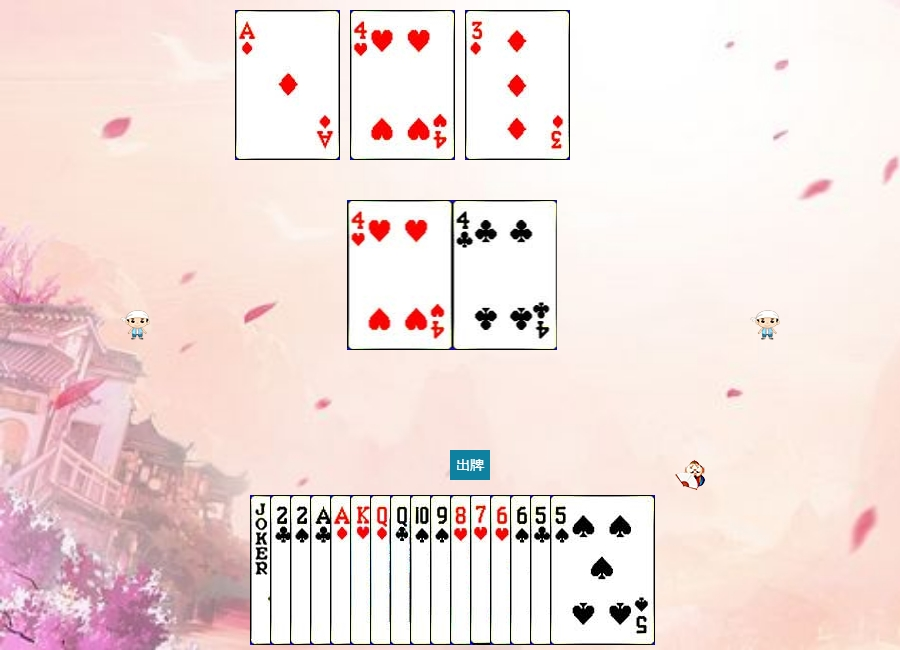10~4: (410, 495, 515, 645)
12~1: (370, 495, 475, 645)
12~2: (390, 495, 495, 645)
13~3: (350, 495, 455, 645)
14~1: (235, 10, 340, 160), (330, 495, 435, 645)
14~2: (310, 495, 415, 645)
15~2: (270, 495, 375, 645)
15~4: (290, 495, 395, 645)
17~3: (250, 495, 355, 645)
3~1: (465, 10, 570, 160)
4~2: (453, 200, 558, 350)
4~3: (350, 10, 455, 160), (348, 200, 453, 350)
5~2: (530, 495, 635, 645)
5~4: (550, 495, 655, 645)
6~3: (490, 495, 595, 645)
6~4: (510, 495, 615, 645)
7~3: (470, 495, 575, 645)
8~3: (450, 495, 555, 645)
9~4: (430, 495, 535, 645)
